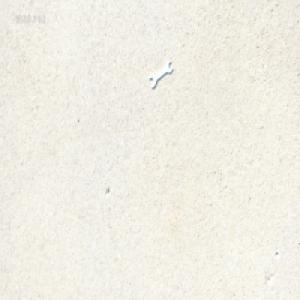Wrench: (149, 57, 172, 88)
